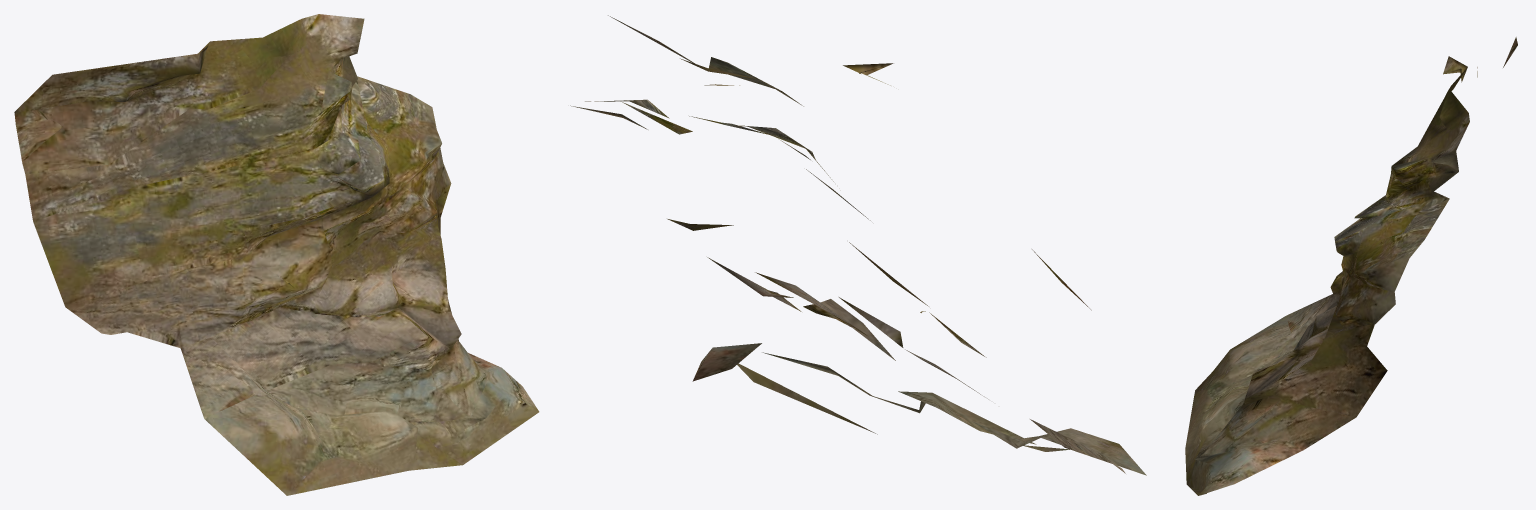
3 renders of one model, left to right at view 1: azimuth 30°, elevation 25°; view 2: azimuth 150°, elevation 25°; view 3: azimuth 270°, elevation 25°, orthographic. The views are drawn at different scales.
Parts seen in each view (by area): view 1: rock_face_02_lod2; view 2: rock_face_02_lod2; view 3: rock_face_02_lod2.
Part boxes in pixels (box(x1,y1,x2,y2)): rock_face_02_lod2: box(14, 14, 539, 495); rock_face_02_lod2: box(570, 15, 1146, 475); rock_face_02_lod2: box(1185, 37, 1517, 495).
Size of the model in its own units: 2.71 by 2.47 by 2.09.
Materials: 1 (1 with a texture image).
